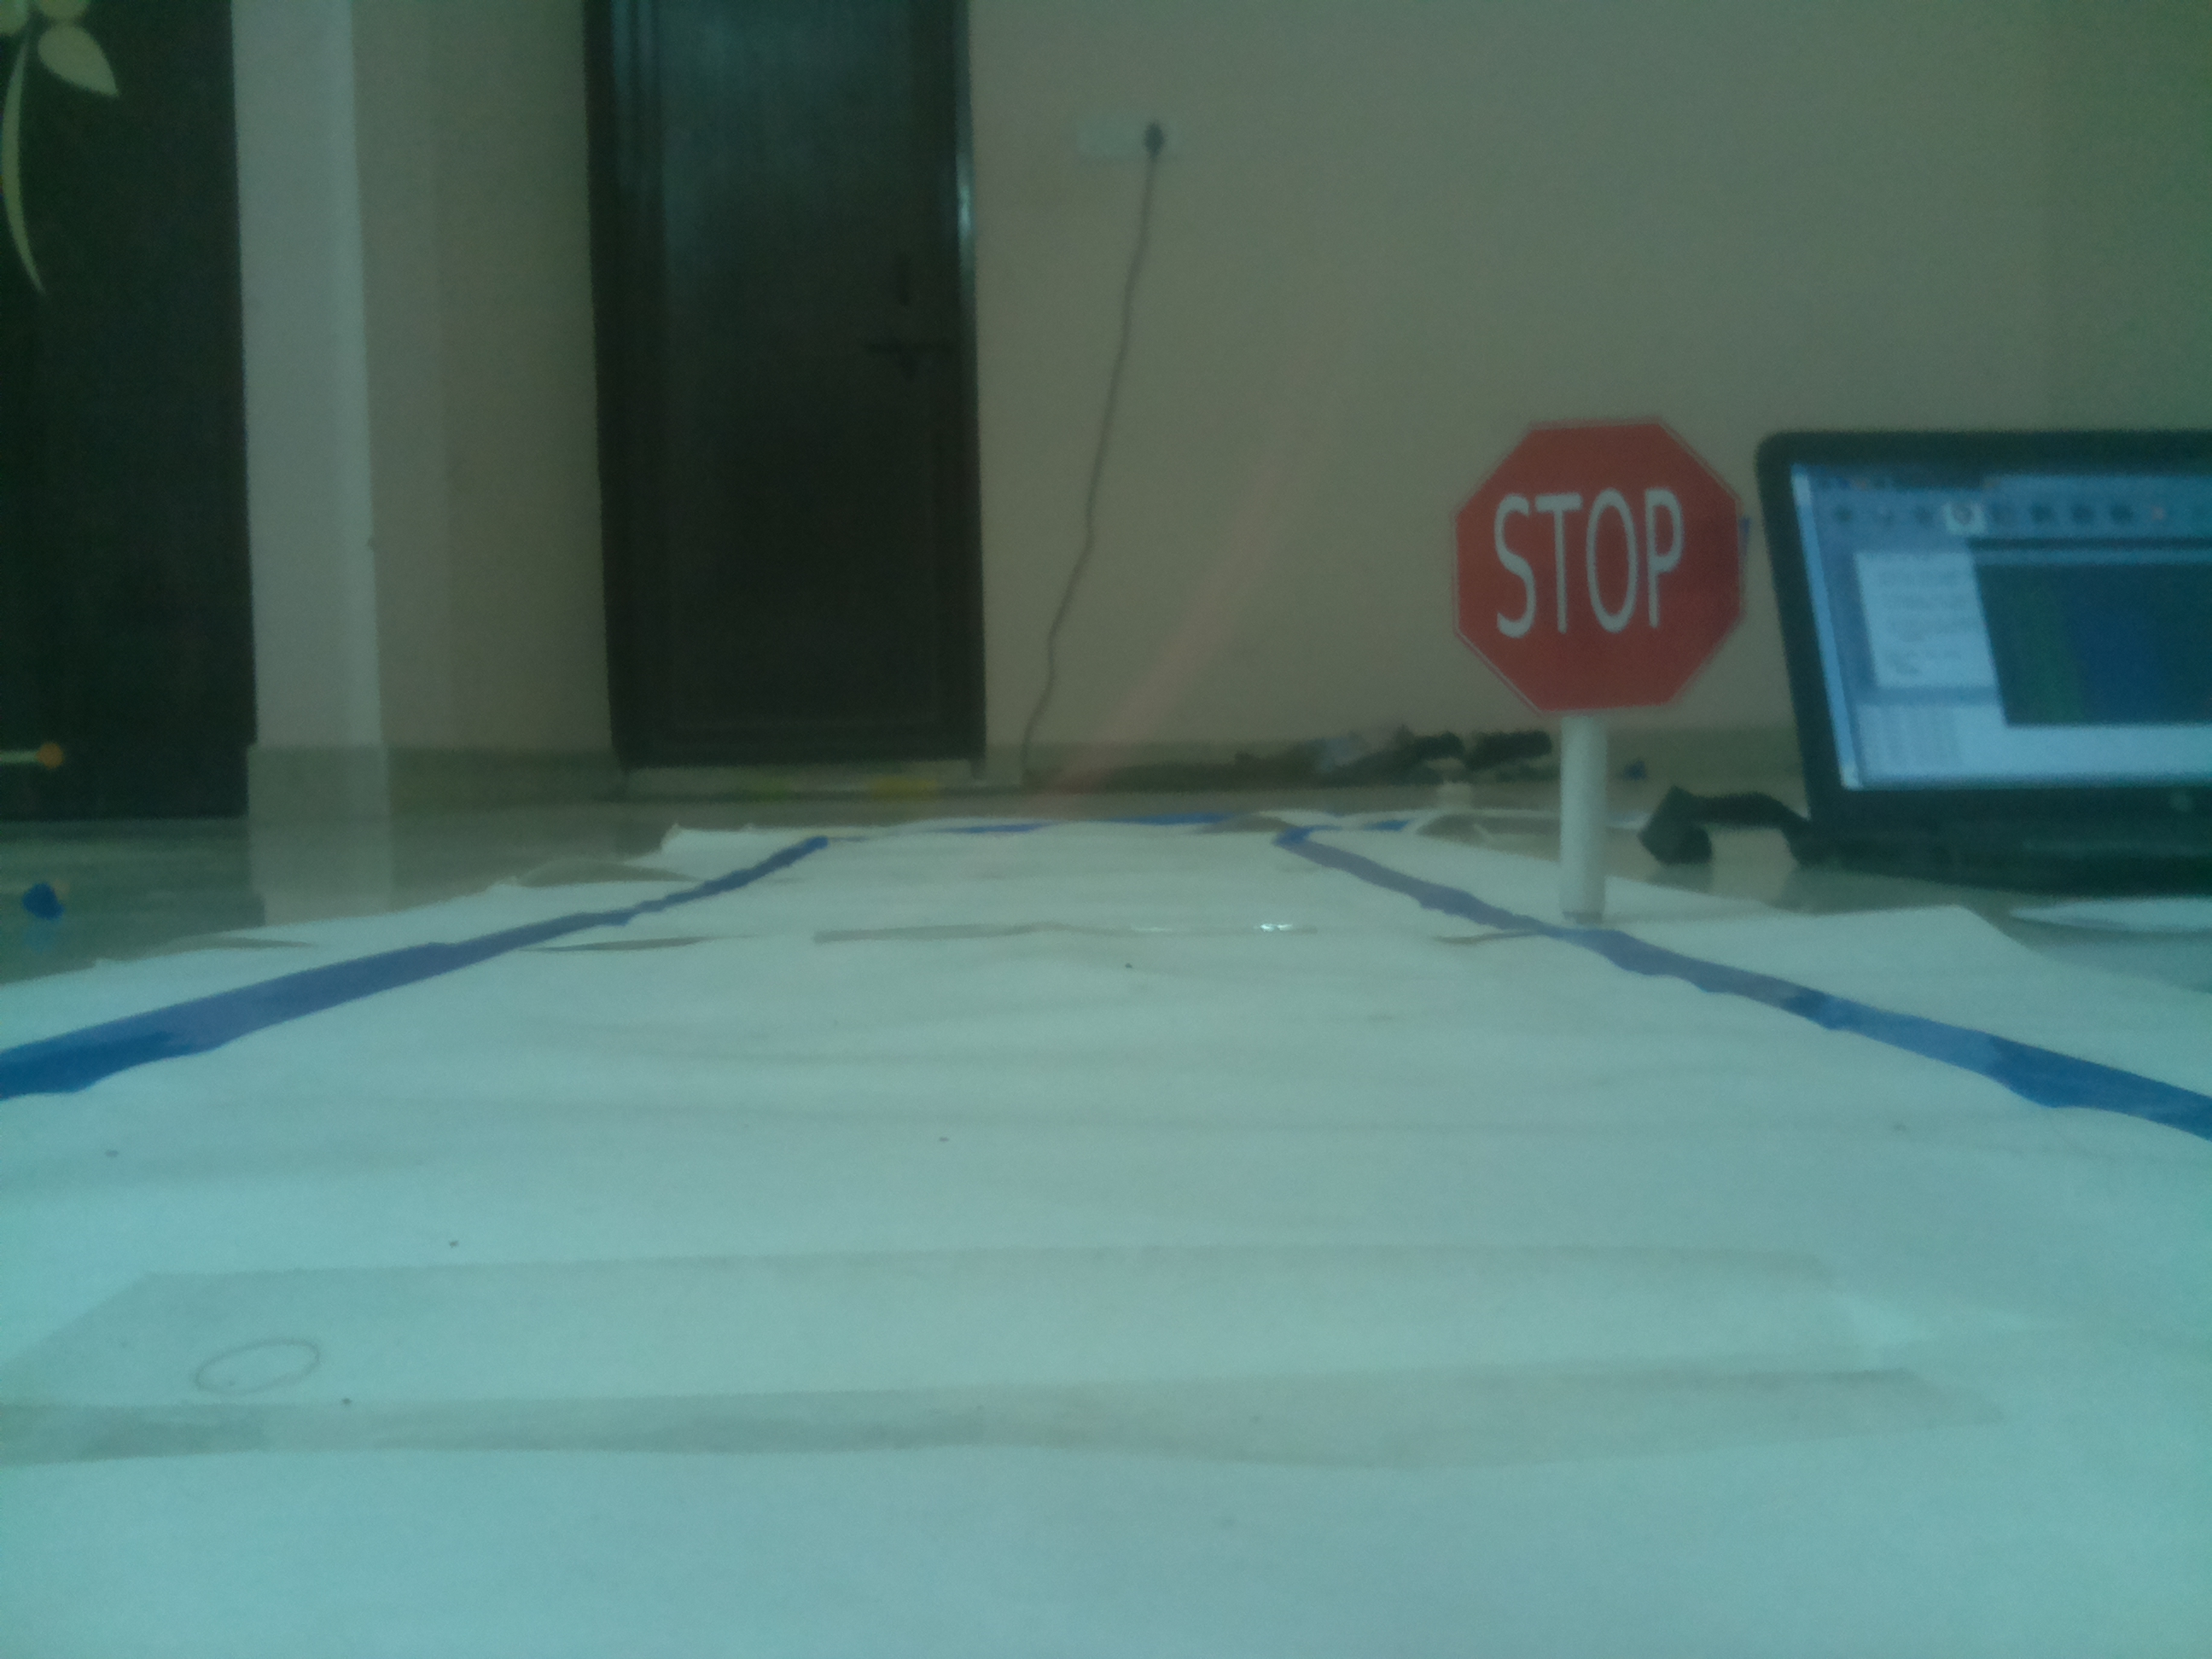Stop: (1447, 423, 1756, 706)
